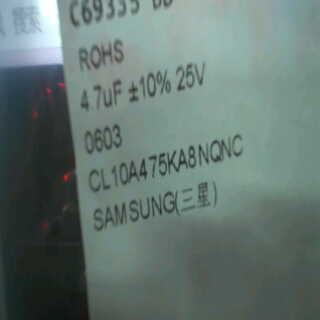4.7uF: (77, 75, 122, 117)
